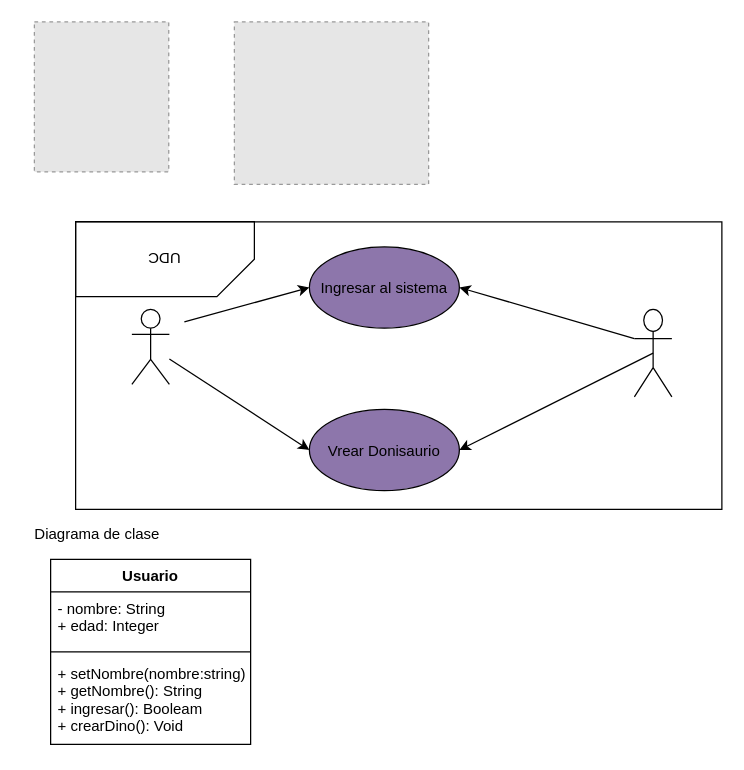
The diagram is 744 pixels wide and 770 high, and some of its shapes have lost their labels. Grey dashed boxes stand in for pictures. Each missing label, with the box of its shape:
Actor: (131, 308, 169, 384)
Sistema: (633, 308, 672, 397)
